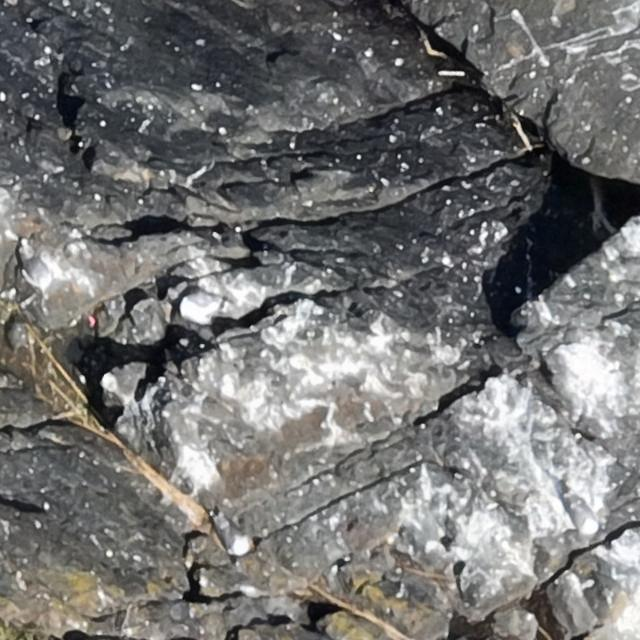umineko: (565, 488, 599, 542), (219, 522, 248, 556)
